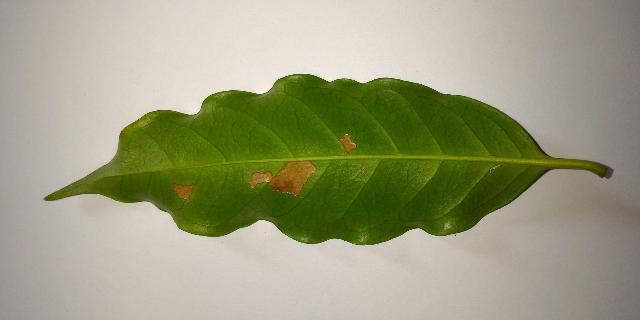cercospora: (250, 160, 316, 196), (172, 183, 194, 201), (338, 134, 356, 154)
